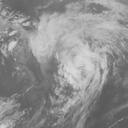cyclone: (57, 42, 107, 94)
